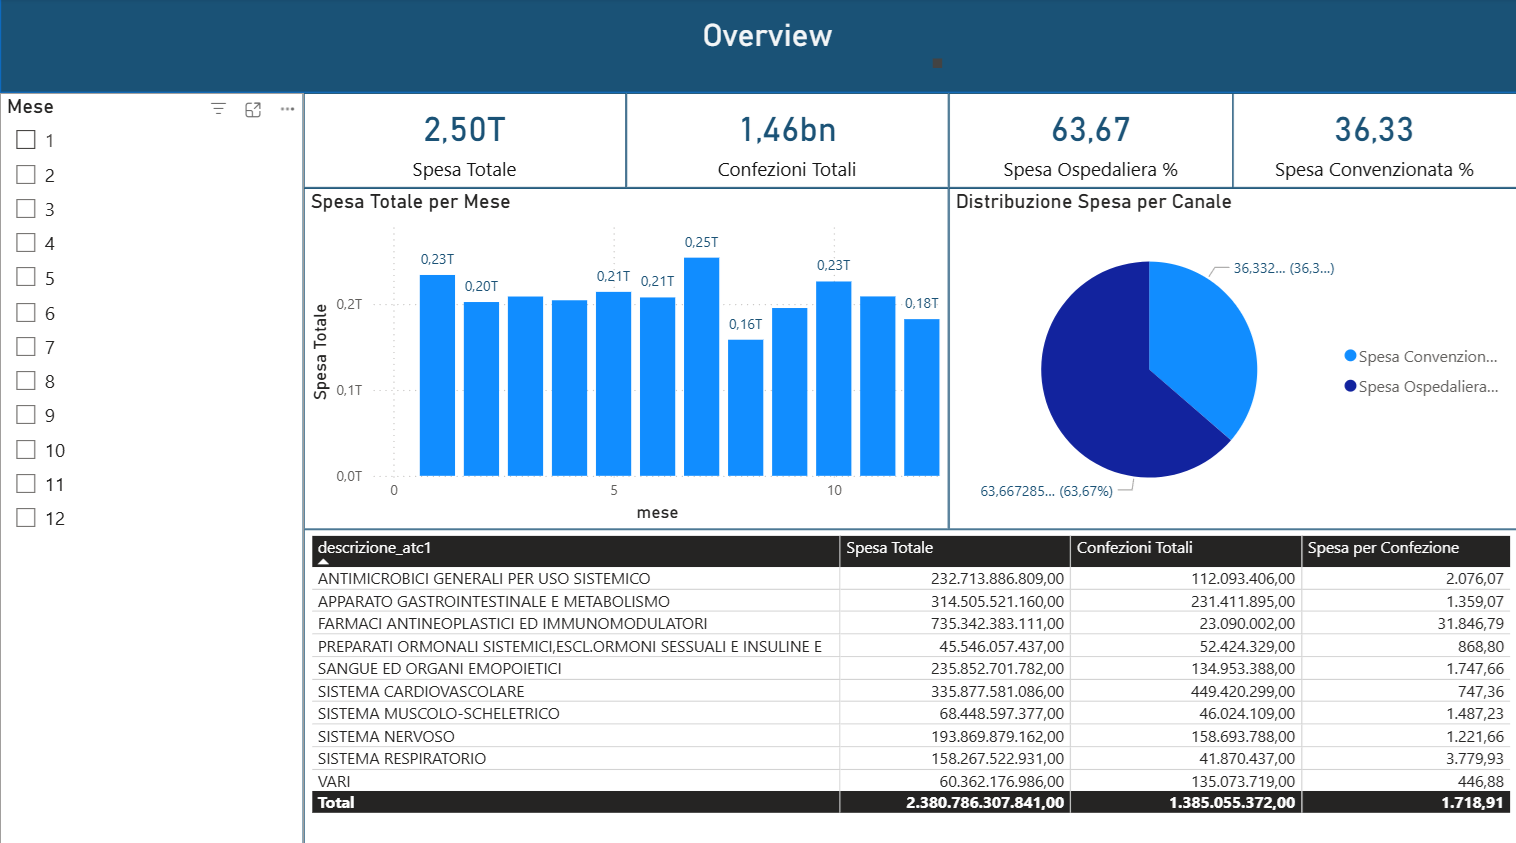

Layout of this report page (visuals, bound fields, positions):
{"tool":"powerbi","page":{"name":"Overview","canvas":[1280,720],"ordinal":0},"visuals":[{"type":"card","fields":{"Values":["dati2024_04 12 2025.Confezioni Totali"]},"box":[528,80,272,80],"z":0},{"type":"card","fields":{"Values":["dati2024_04 12 2025.Spesa Totale"]},"box":[256,80,272,80],"z":1000},{"type":"card","fields":{"Values":["dati2024_04 12 2025.Spesa Ospedaliera %"]},"box":[800,80,240,80],"z":2000},{"type":"card","fields":{"Values":["dati2024_04 12 2025.Spesa Convenzionata %"]},"box":[1040,80,240,80],"z":3000},{"type":"clusteredColumnChart","title":"Spesa Totale per Mese","fields":{"Category":["dati2024_04 12 2025.mese"],"Y":["dati2024_04 12 2025.Spesa Totale"]},"box":[256,160,544,288],"z":4000},{"type":"pieChart","title":"Distribuzione Spesa per Canale","fields":{"Y":["dati2024_04 12 2025.Spesa Convenzionata %","dati2024_04 12 2025.Spesa Ospedaliera %"]},"box":[800,160,480,288],"z":5000},{"type":"shape","box":[0,0,1280,80],"z":5500},{"type":"tableEx","fields":{"Values":["dati2024_04 12 2025.descrizione_atc1","dati2024_04 12 2025.Spesa Totale","dati2024_04 12 2025.Confezioni Totali","dati2024_04 12 2025.Spesa per Confezione"]},"box":[256,448,1024,272],"z":6000},{"type":"slicer","title":"Mese","fields":{"Values":["dati2024_04 12 2025.mese"]},"box":[0,80,256,640],"z":8000},{"type":"textbox","title":"Overview","box":[496,16,304,48],"z":9000}]}

Visuals, with their boxes in screenshot pixels (x1, y1, x2, y2), scaled from the page's 1280x720 canvas onto the 1516x843 screenshot:
card - dati2024_04 12 2025.Confezioni Totali: box=[625, 94, 948, 187]
card - dati2024_04 12 2025.Spesa Totale: box=[303, 94, 625, 187]
card - dati2024_04 12 2025.Spesa Ospedaliera %: box=[948, 94, 1232, 187]
card - dati2024_04 12 2025.Spesa Convenzionata %: box=[1232, 94, 1515, 187]
"Spesa Totale per Mese" clusteredColumnChart: box=[303, 187, 948, 525]
"Distribuzione Spesa per Canale" pieChart: box=[948, 187, 1515, 525]
shape: box=[0, 0, 1515, 94]
tableEx - dati2024_04 12 2025.descrizione_atc1 x dati2024_04 12 2025.Spesa Totale: box=[303, 525, 1515, 842]
"Mese" slicer: box=[0, 94, 303, 842]
"Overview" textbox: box=[587, 19, 948, 75]
